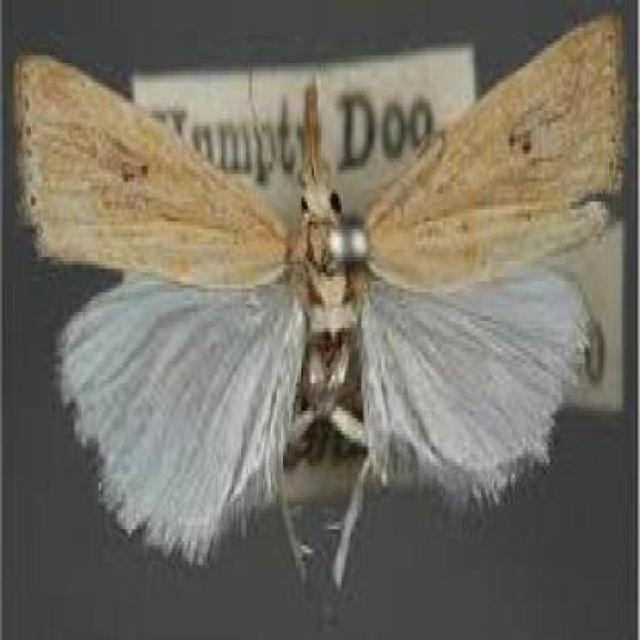stem-borer: (13, 5, 631, 602)
